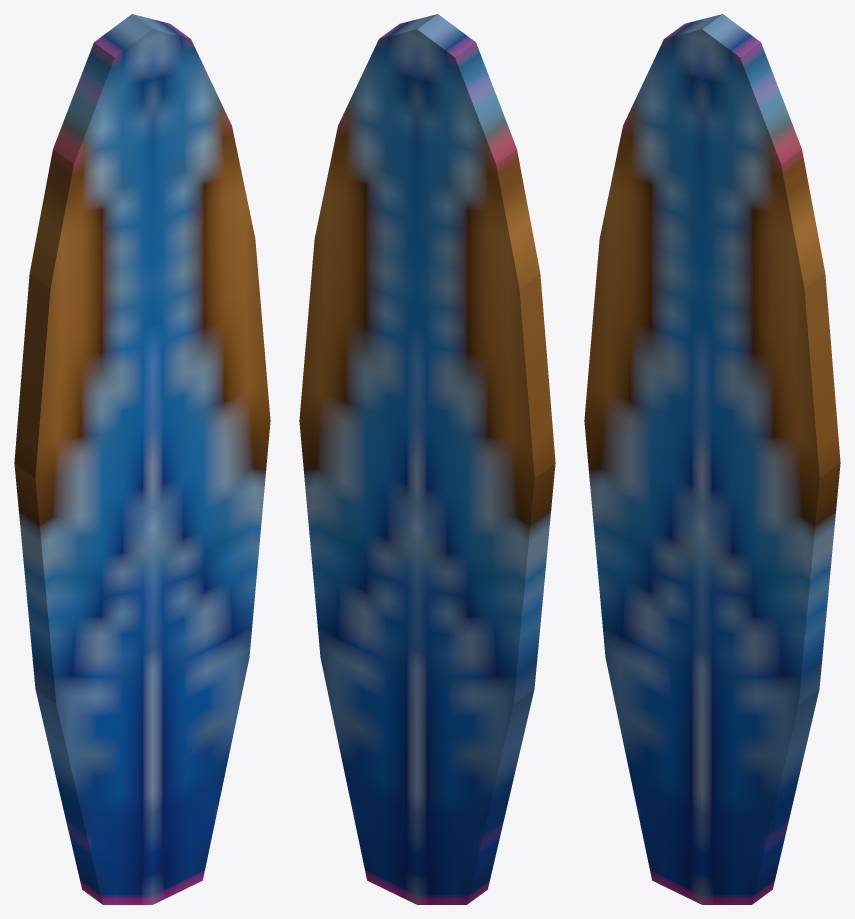
Rendered from Tabla 02.fbx.
The picture shows the model from 3 angles, left to right: view 1: azimuth 30°, elevation 25°; view 2: azimuth 150°, elevation 25°; view 3: azimuth 330°, elevation 25°; orthographic projection.
Visible parts, largest first — view 1: Tabla 02; view 2: Tabla 02; view 3: Tabla 02.
Boxes of the visible parts, x1=… form: Tabla 02: x1=14, y1=14, x2=270, y2=904; Tabla 02: x1=299, y1=14, x2=555, y2=904; Tabla 02: x1=584, y1=14, x2=840, y2=904.
Size of the model in its own units: 97.52 by 347 by 15.
